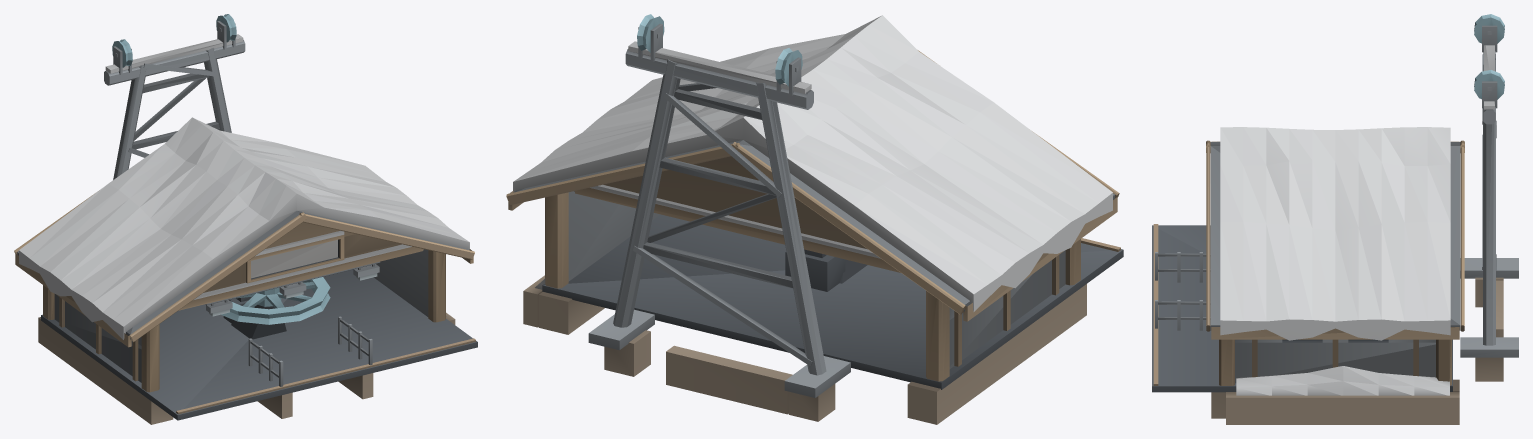
3 views of the same model, side by side, from view 1: azimuth 30°, elevation 25°; view 2: azimuth 150°, elevation 25°; view 3: azimuth 270°, elevation 25° (orthographic). The views are drawn at different scales.
Visible parts, largest first — view 1: base; view 2: base; view 3: base.
Part boxes in pixels (box(x1,y1,x2,y2)): base: box(14, 14, 477, 424); base: box(506, 14, 1123, 424); base: box(1152, 14, 1518, 424).
Bounding box in the file's own units: 15 × 11.08 × 12.5.
